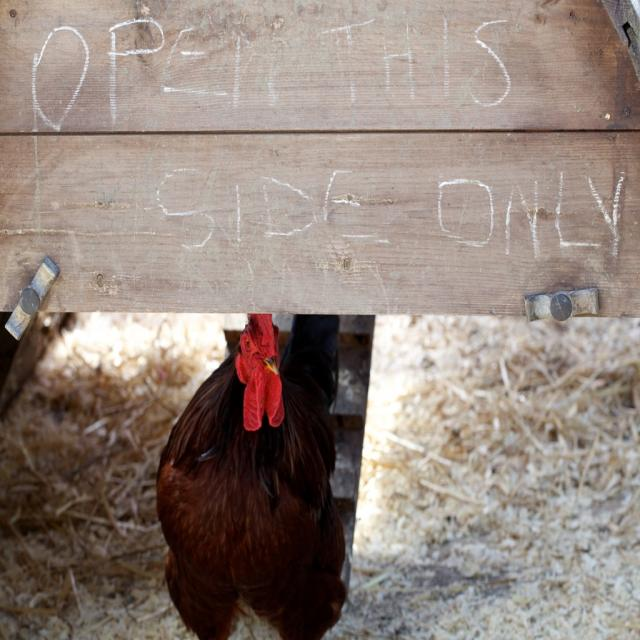Chicken: (161, 315, 356, 628)
